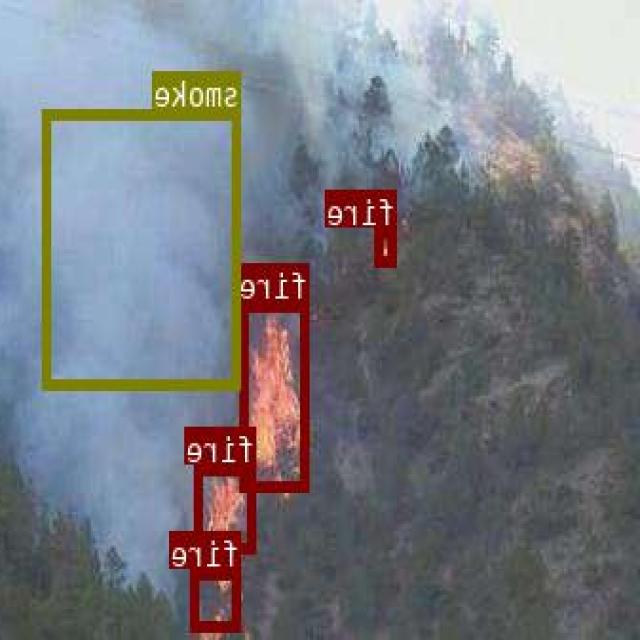fire: (242, 301, 311, 488), (197, 464, 258, 552), (192, 568, 242, 630), (377, 227, 399, 264)
smoke: (44, 107, 242, 388)
